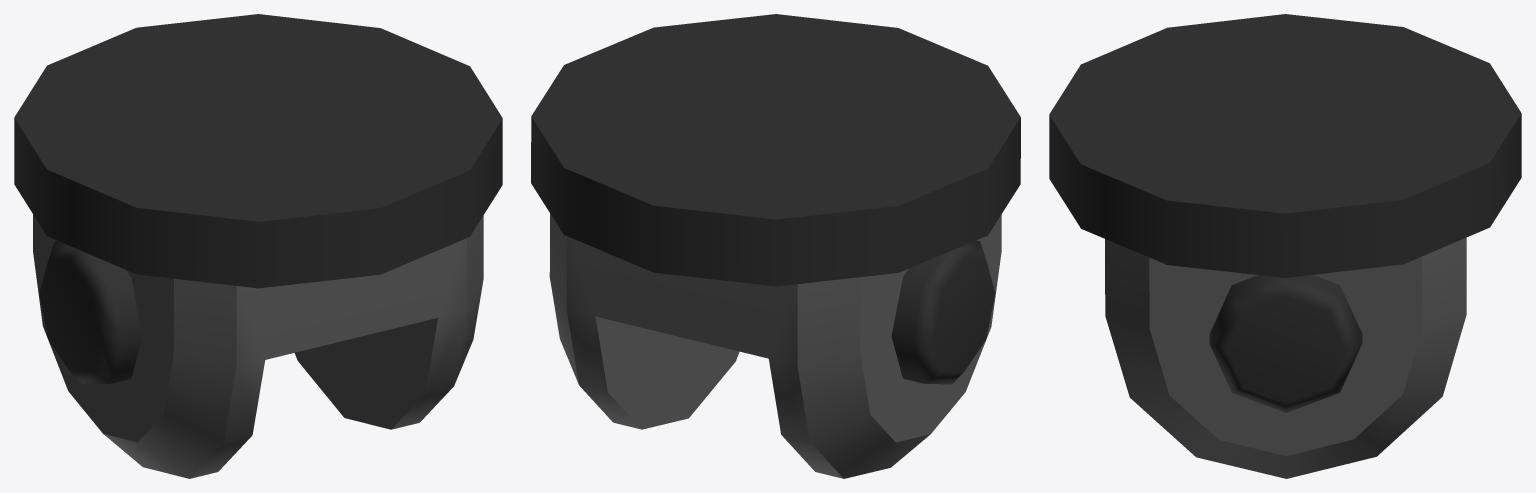
Rendered from Turret_001_Part_03.fbx.
3 renders of one model, left to right at view 1: azimuth 30°, elevation 25°; view 2: azimuth 150°, elevation 25°; view 3: azimuth 270°, elevation 25°, orthographic. The views are drawn at different scales.
Parts seen in each view (by area): view 1: Turret_001_Part_03; view 2: Turret_001_Part_03; view 3: Turret_001_Part_03.
Boxes of the visible parts, left/top/right/bottom form: Turret_001_Part_03: left=14, top=14, right=502, bottom=478; Turret_001_Part_03: left=531, top=14, right=1020, bottom=478; Turret_001_Part_03: left=1049, top=14, right=1521, bottom=478.
Bounding box in the file's own units: 64.78 × 64.81 × 47.17.
